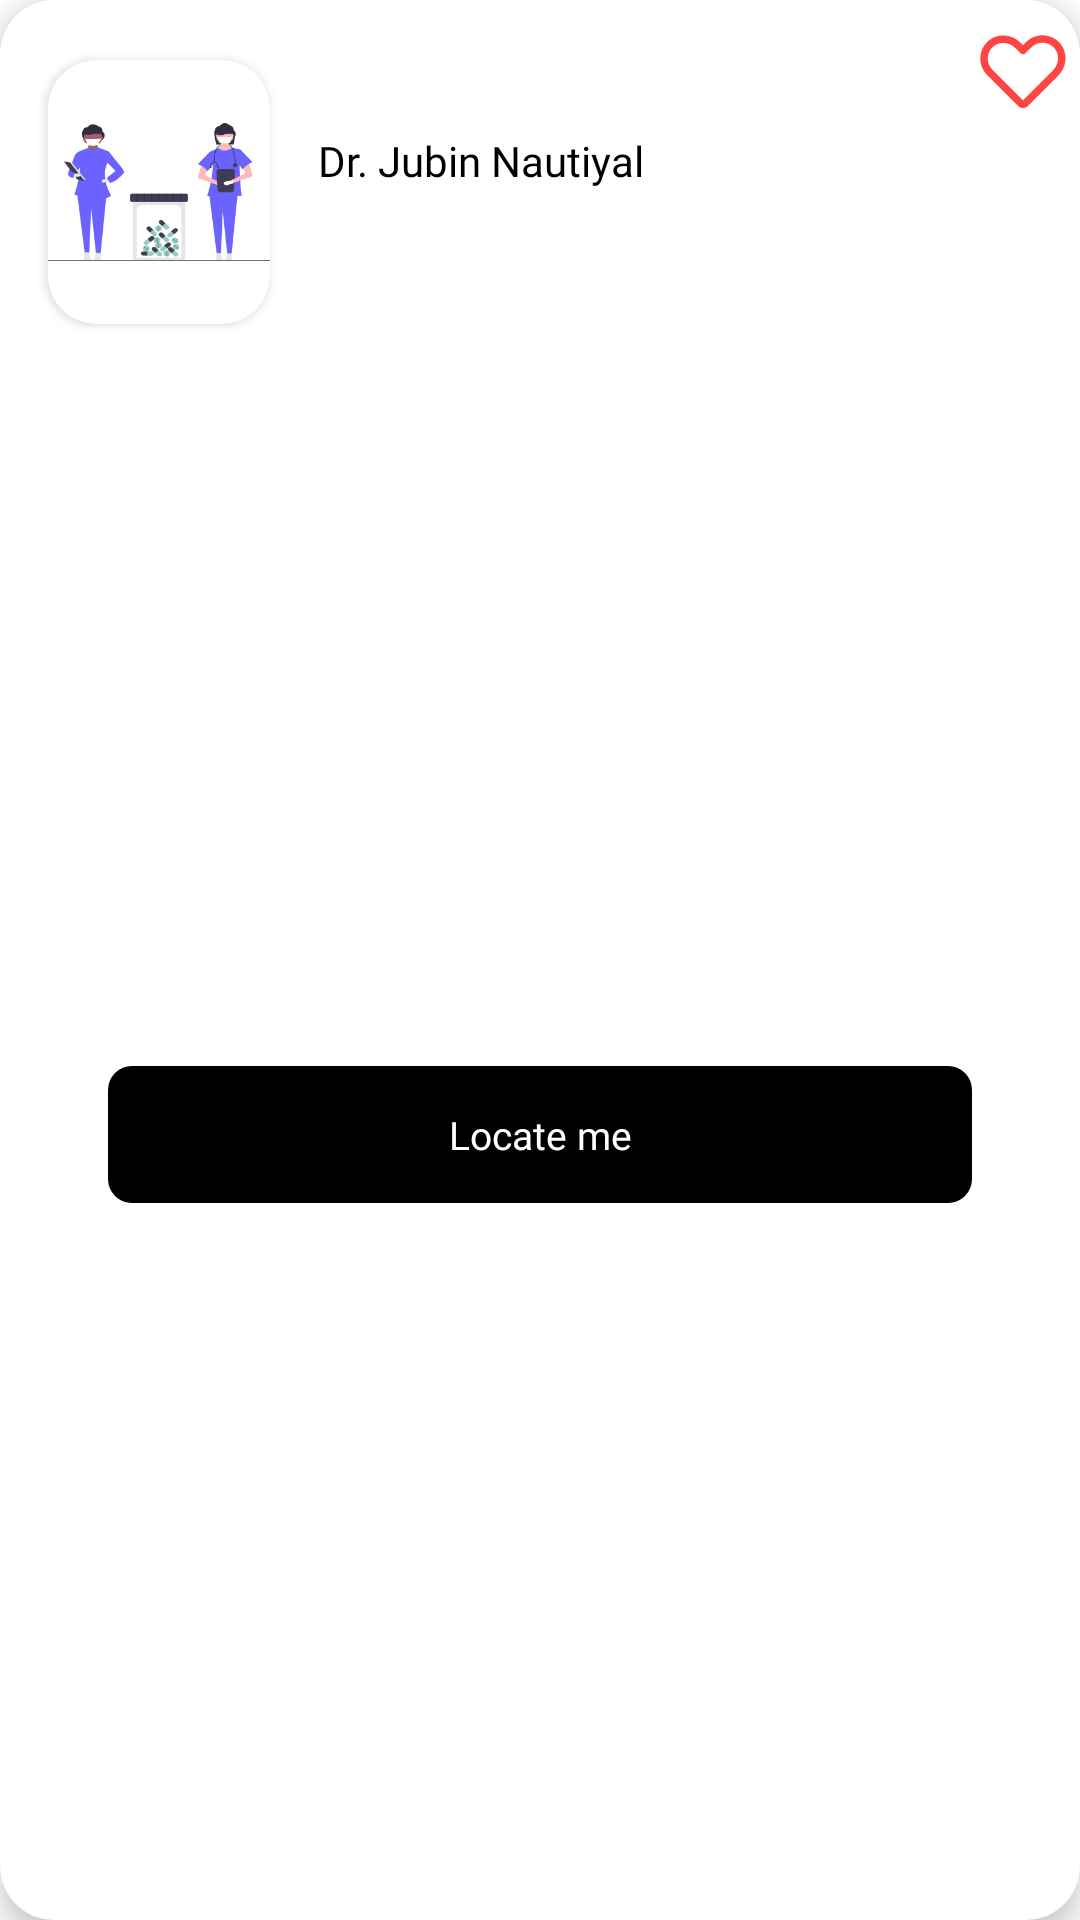

Icon click points for this 1080*1920 phone screenshot, format (x=x, y=y):
heartstraight: (x=1023, y=71)
